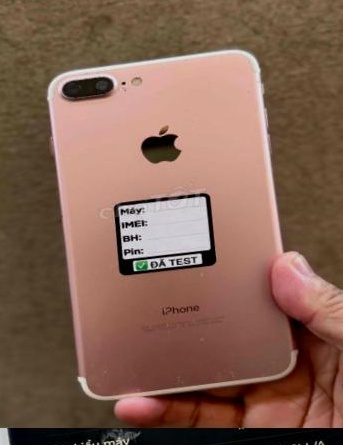scratch: (65, 254, 295, 402), (54, 64, 135, 106), (96, 428, 143, 445)
